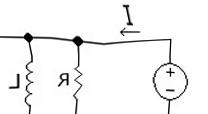Battery: (144, 57, 193, 103)
